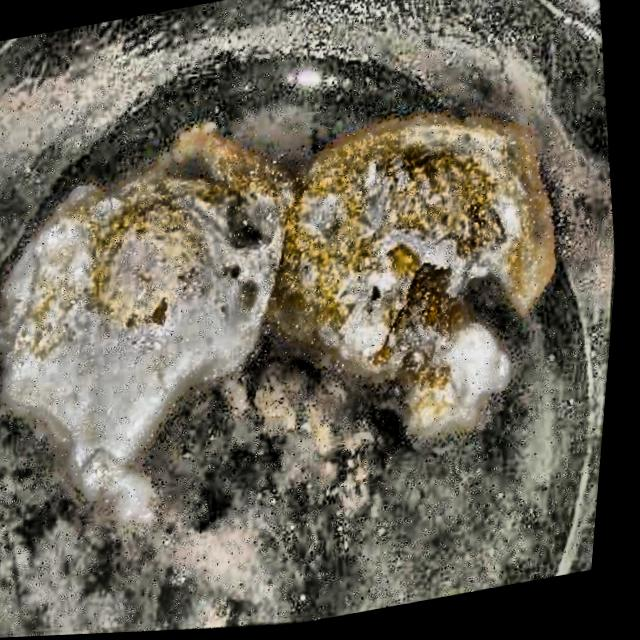Food: (0, 48, 612, 549)
